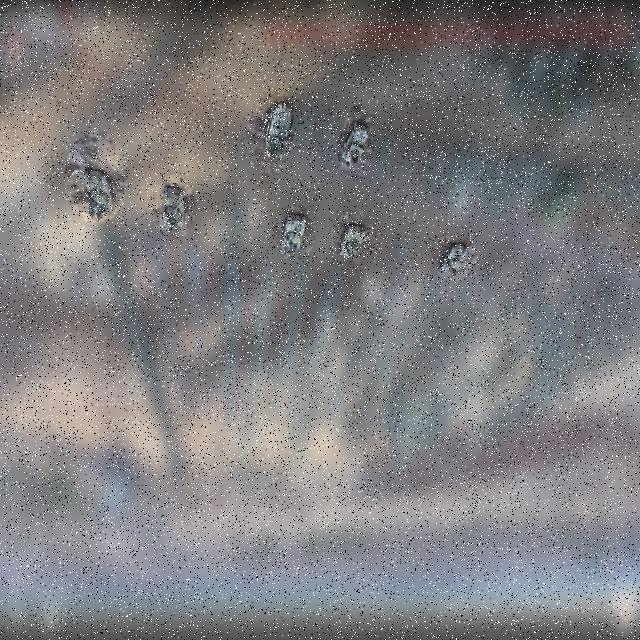MIL_MBT: (82, 162, 116, 217), (265, 99, 292, 159), (281, 213, 308, 258), (161, 184, 186, 232), (438, 240, 473, 274), (337, 222, 371, 257)
